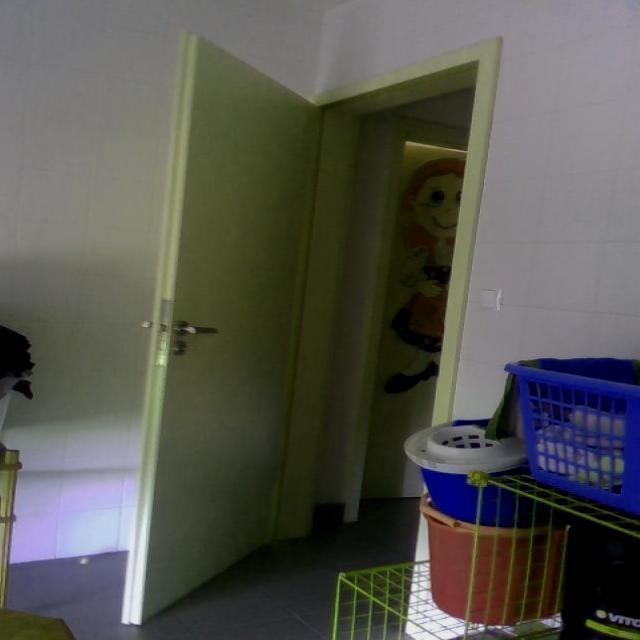door: (119, 30, 323, 625)
